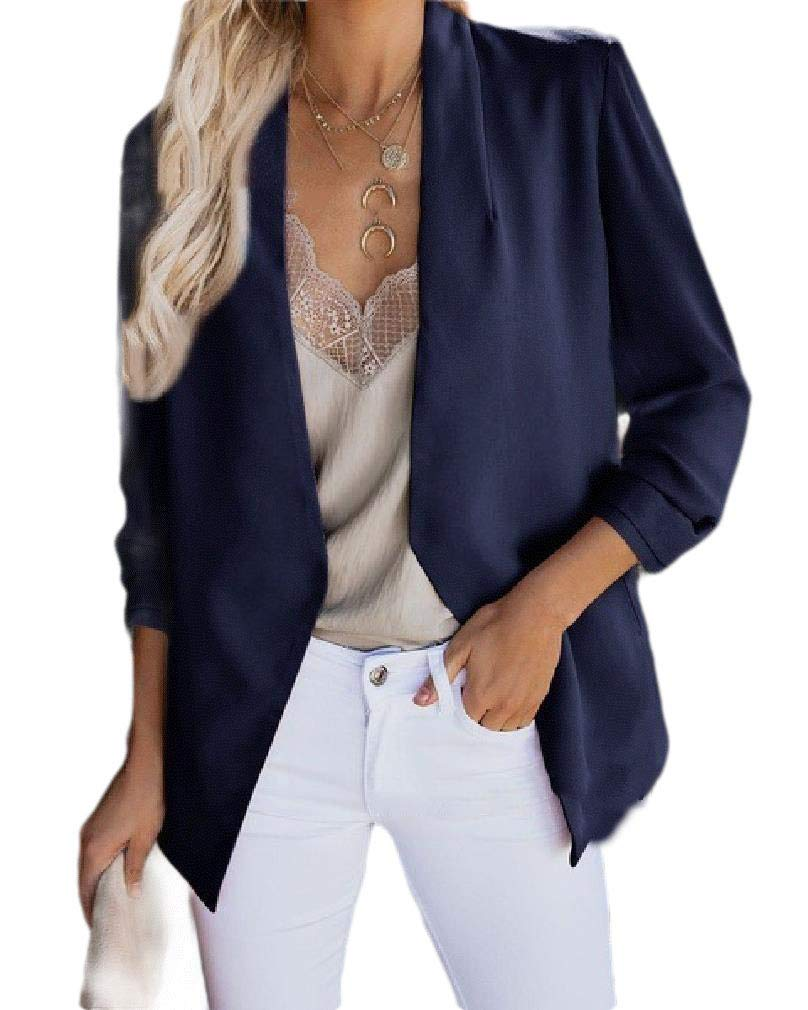F_W_suit jacket: (90, 17, 727, 809)
